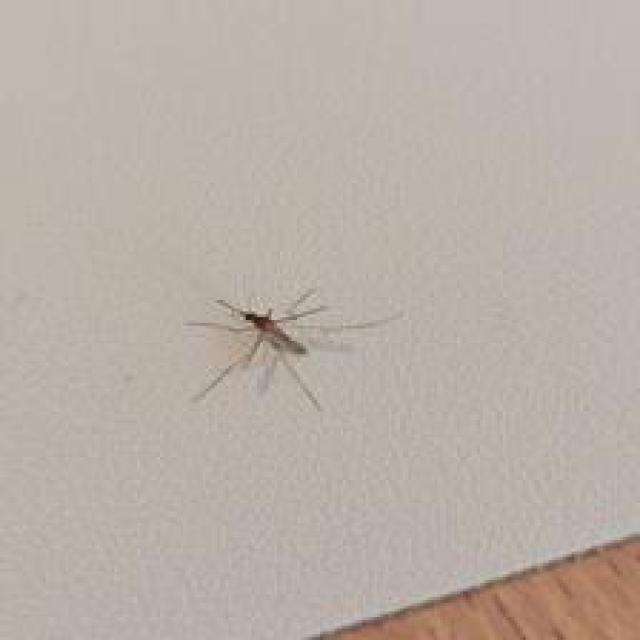Culex: (182, 284, 402, 413)
